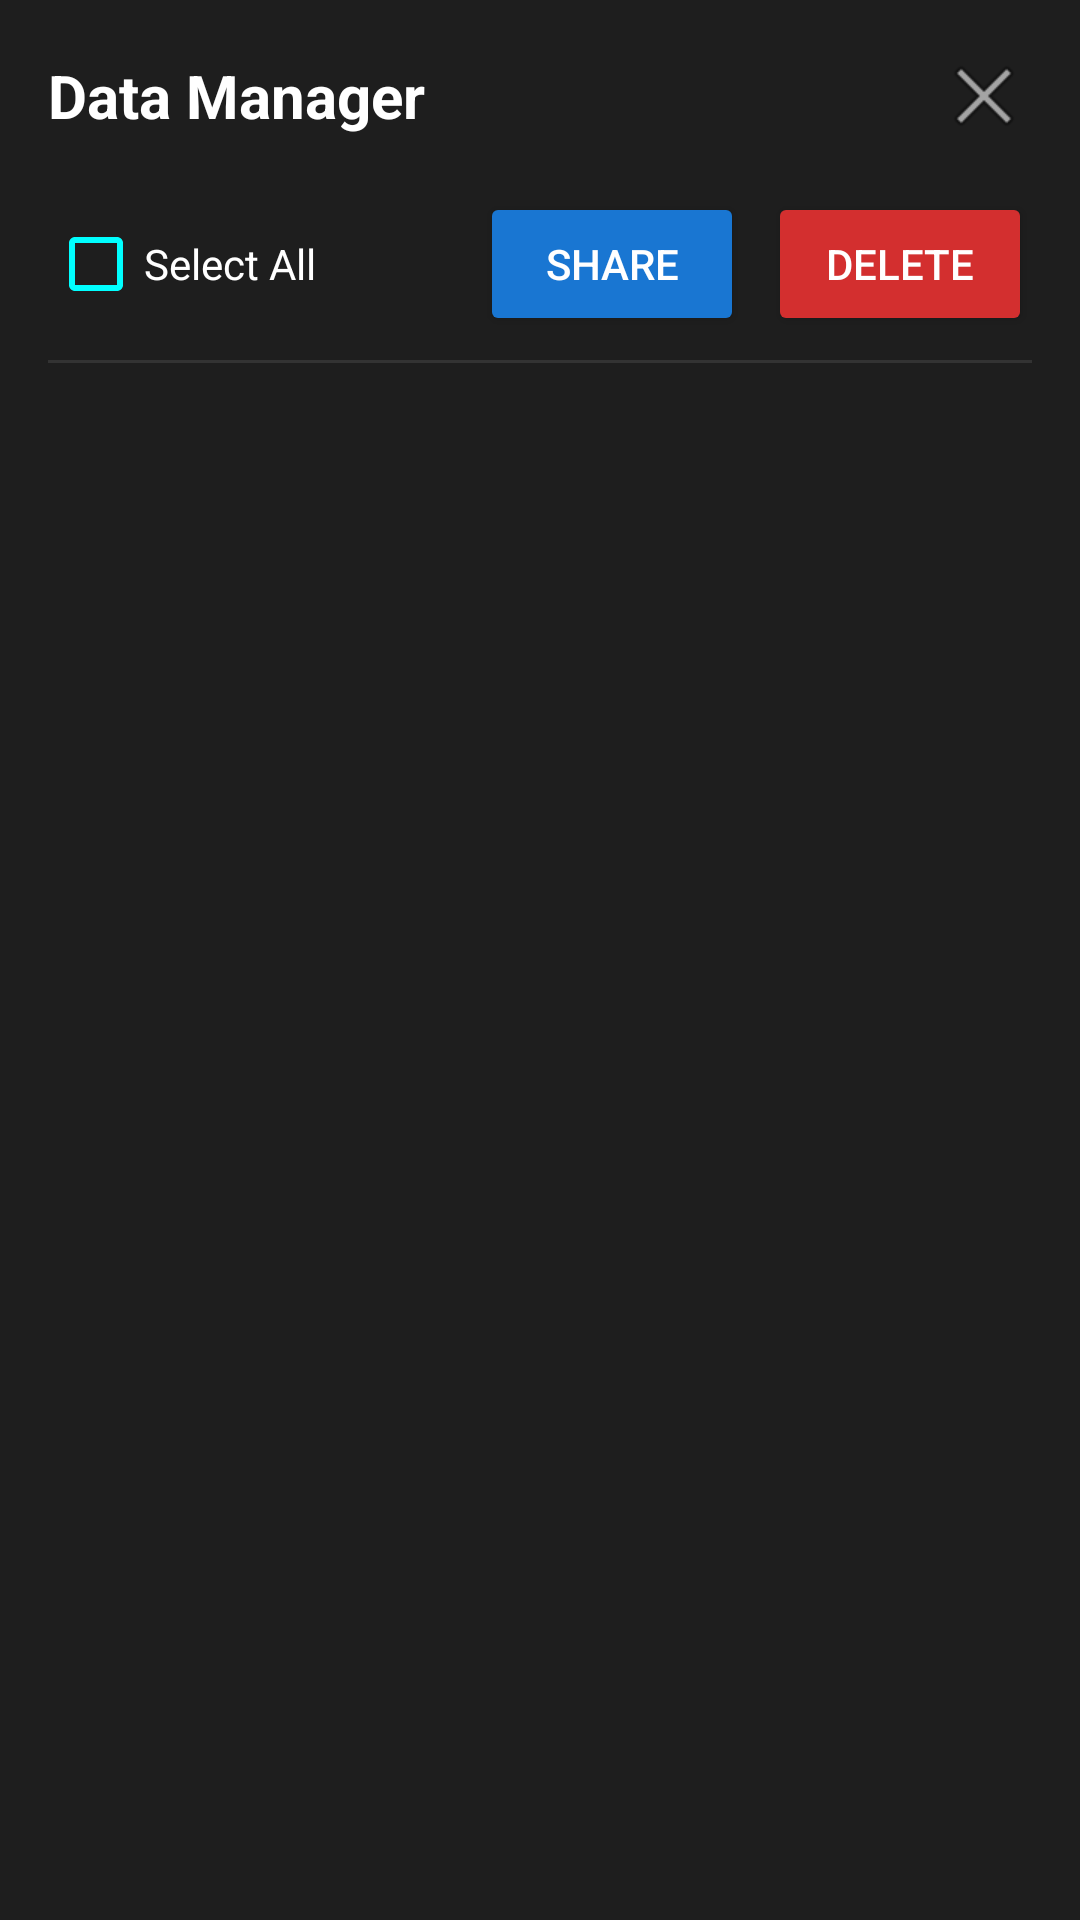

Screen size 1080w x 1920h. Icon name, then its center in pixels as [x,y]:
Close: [984,96]
